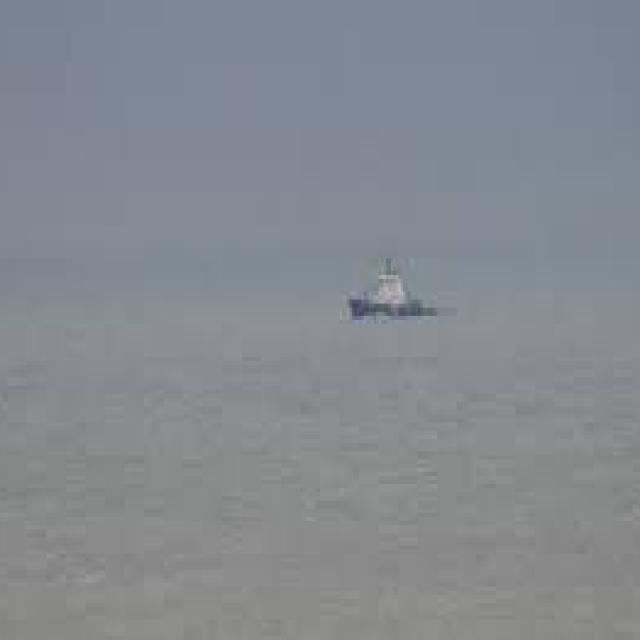houseboat: (350, 248, 450, 326)
